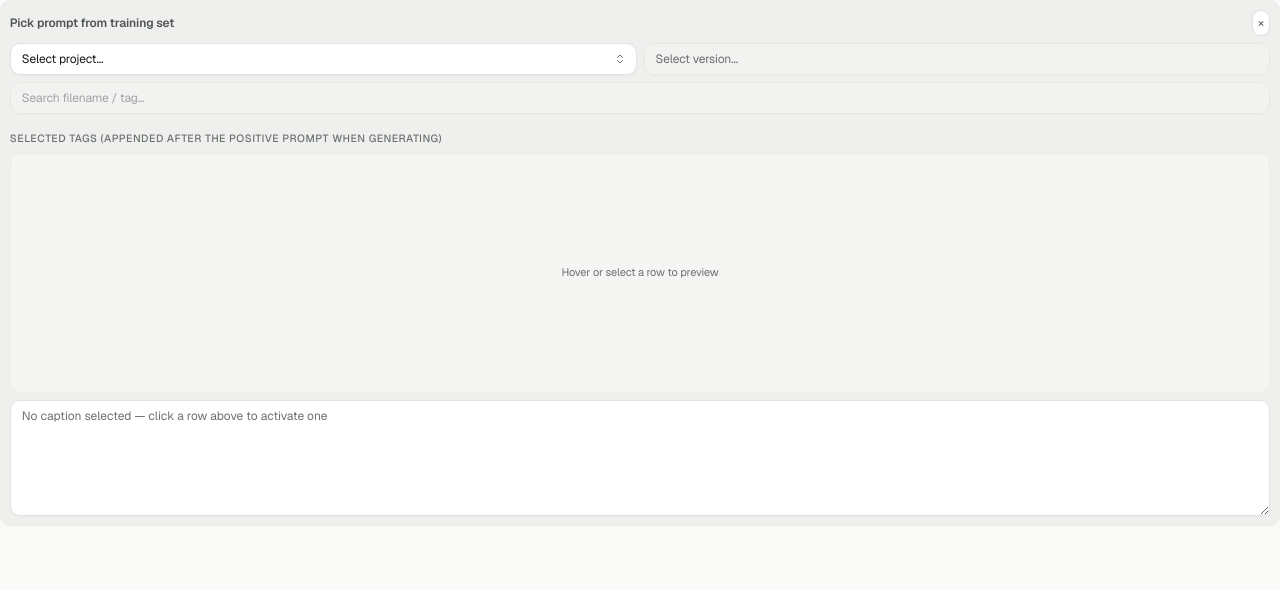
Test: PromptFromDatasetPicker - thumbnail / pid-vid sync › a late stale response does not overwrite current captions (regression: thumbs mass-404 to black images)
Select "projA" in the dropdown named "Select project" at (323, 59), box [10,43,637,75]
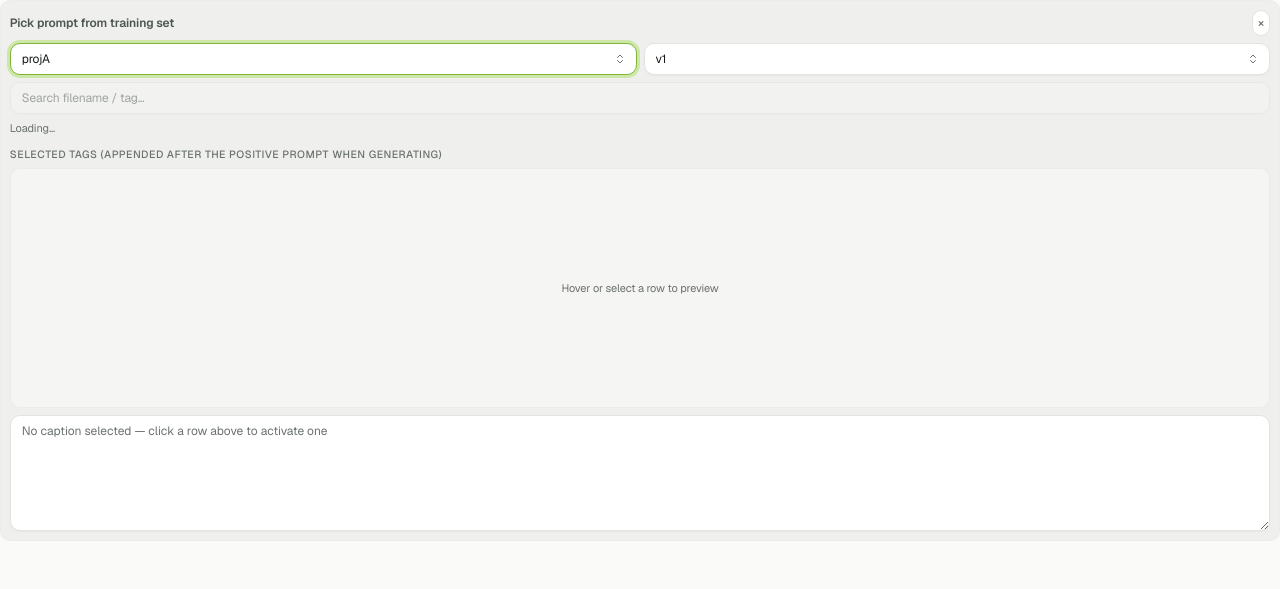
Select "v2" in the dropdown named "Select version" at (957, 59), box [644,43,1270,75]
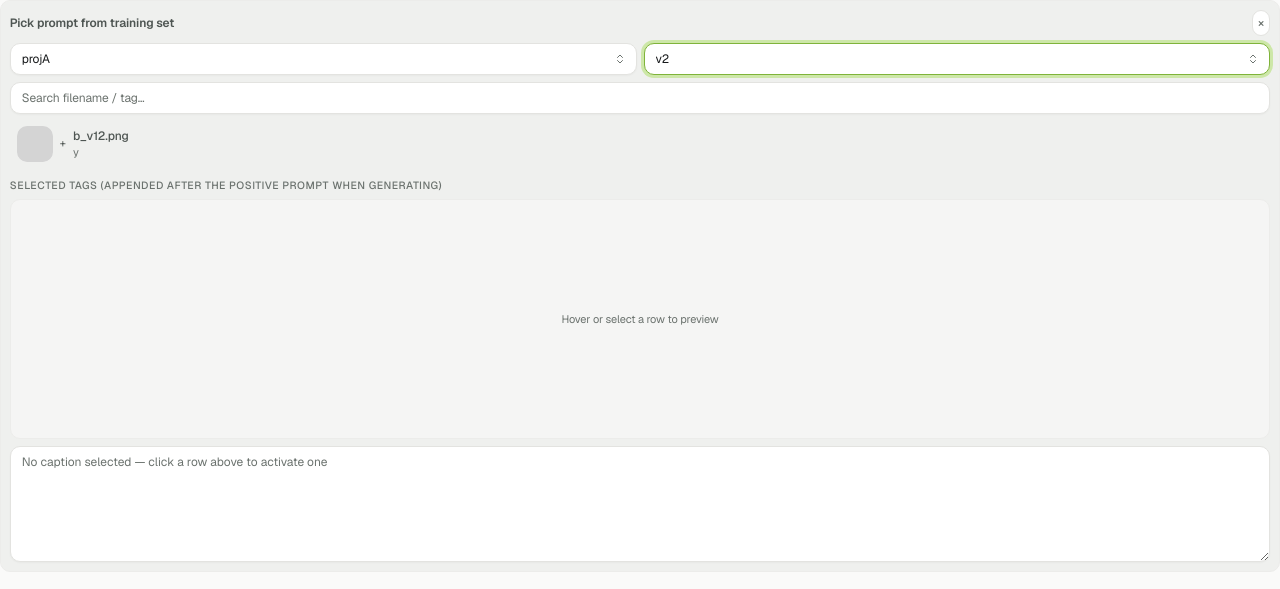
Expected: the text "b_v12.png" is shown, [73,128,129,144]
